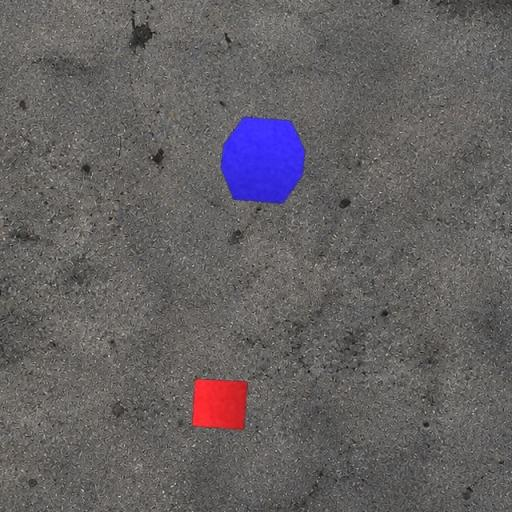RED_SQUARE: (191, 378, 249, 430)
